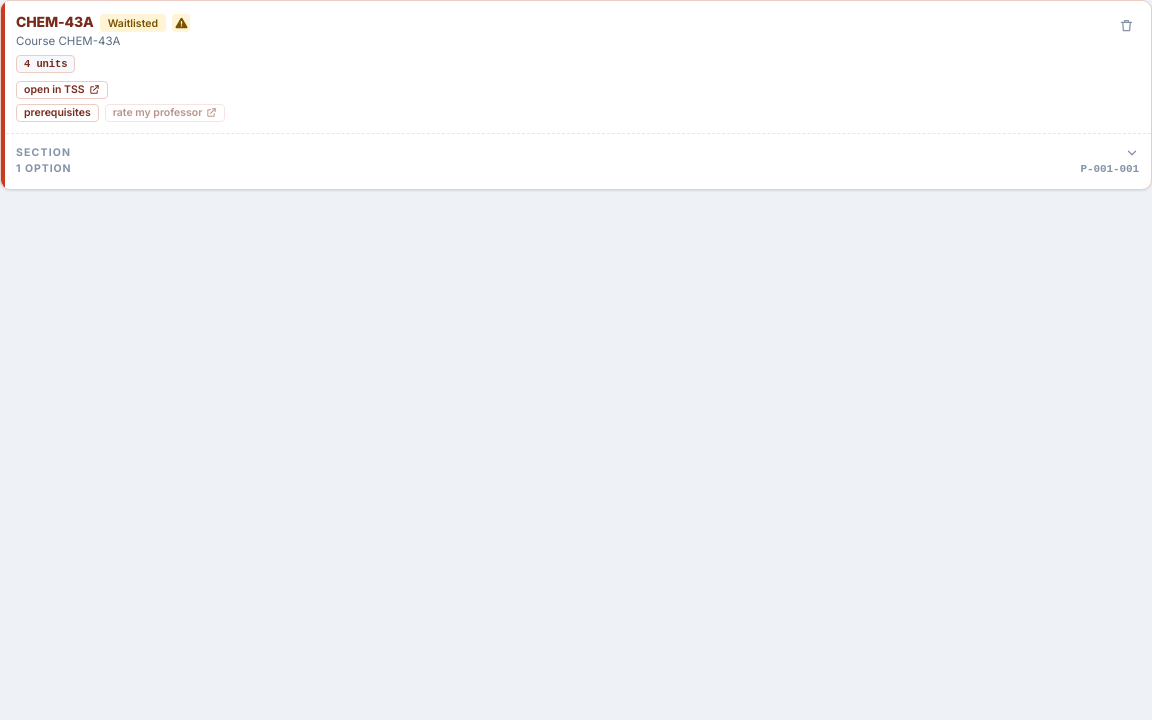
Scenario: CourseCard waitlisted state › queued, but not for the section on the grid › says QUEUED, never enrolled — the one word this card must not get wrong
Click the button with class "tag--alert".
click(181, 23)  # box [172,14,190,32]
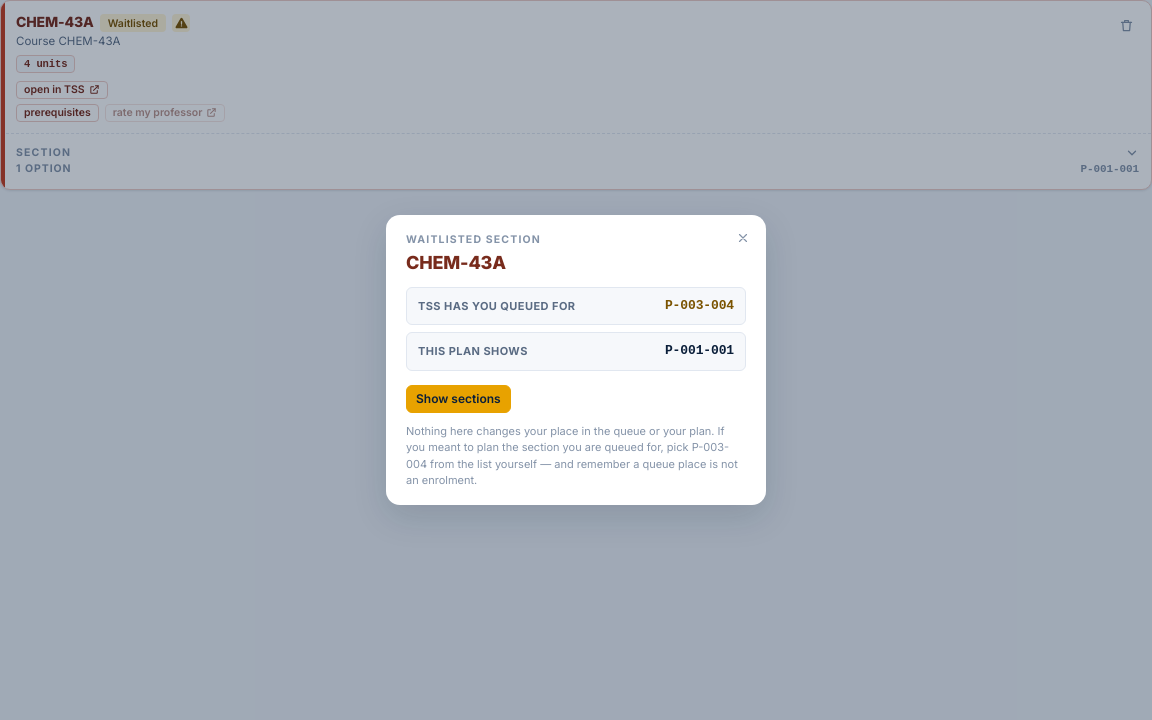
Expected: the dialog with class "bookedpop" shows "TSS has you queued for", [418,299,576,313]
Expected: the dialog with class "bookedpop" shows "P-003-004", [665,298,734,313]
Expected: the dialog with class "bookedpop" shows "P-001-001", [665,343,734,358]
